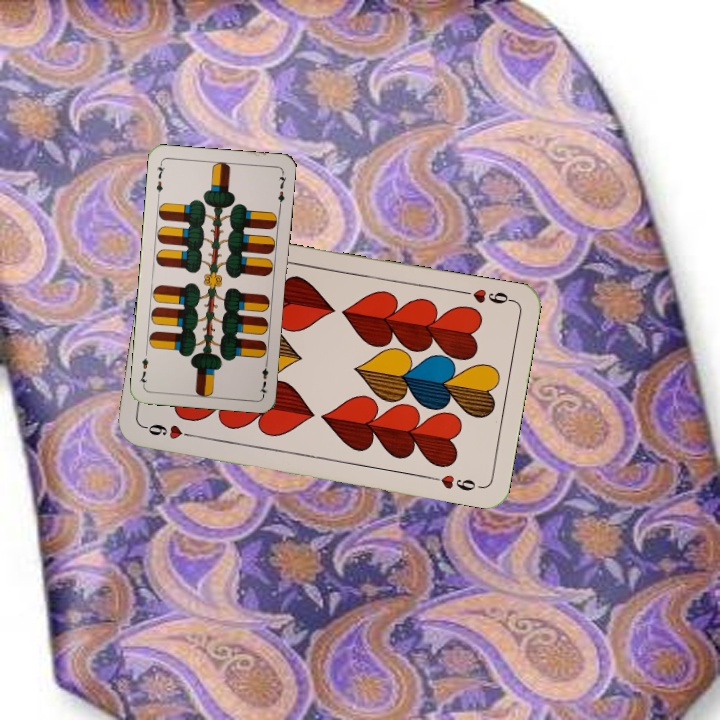E7: (152, 159, 167, 200), (256, 356, 271, 397)
H9: (457, 284, 516, 307), (139, 420, 198, 442)
